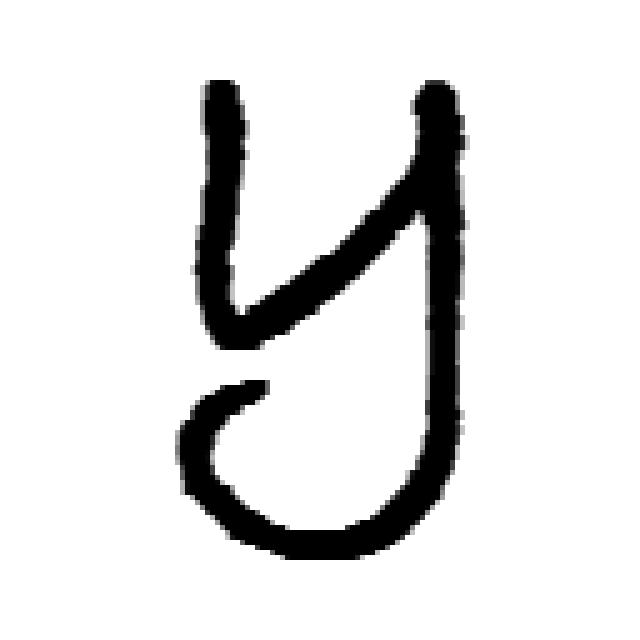Y: (160, 65, 480, 565)
